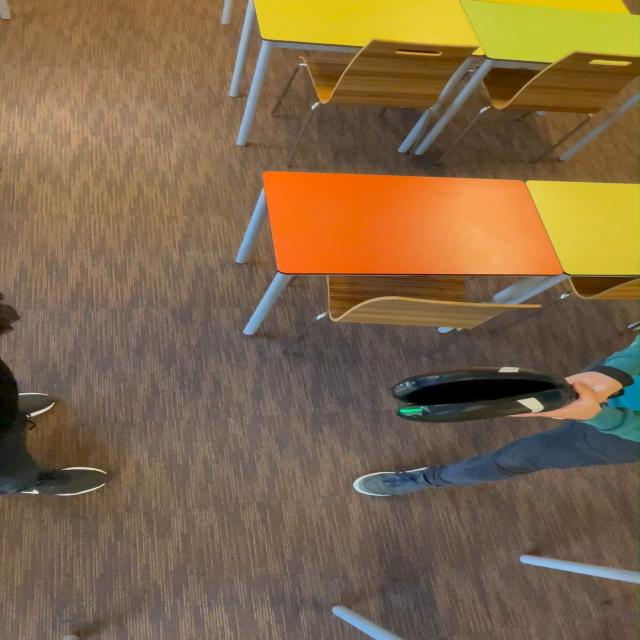paddle: (393, 373, 569, 422)
trigger: (399, 401, 433, 422)
